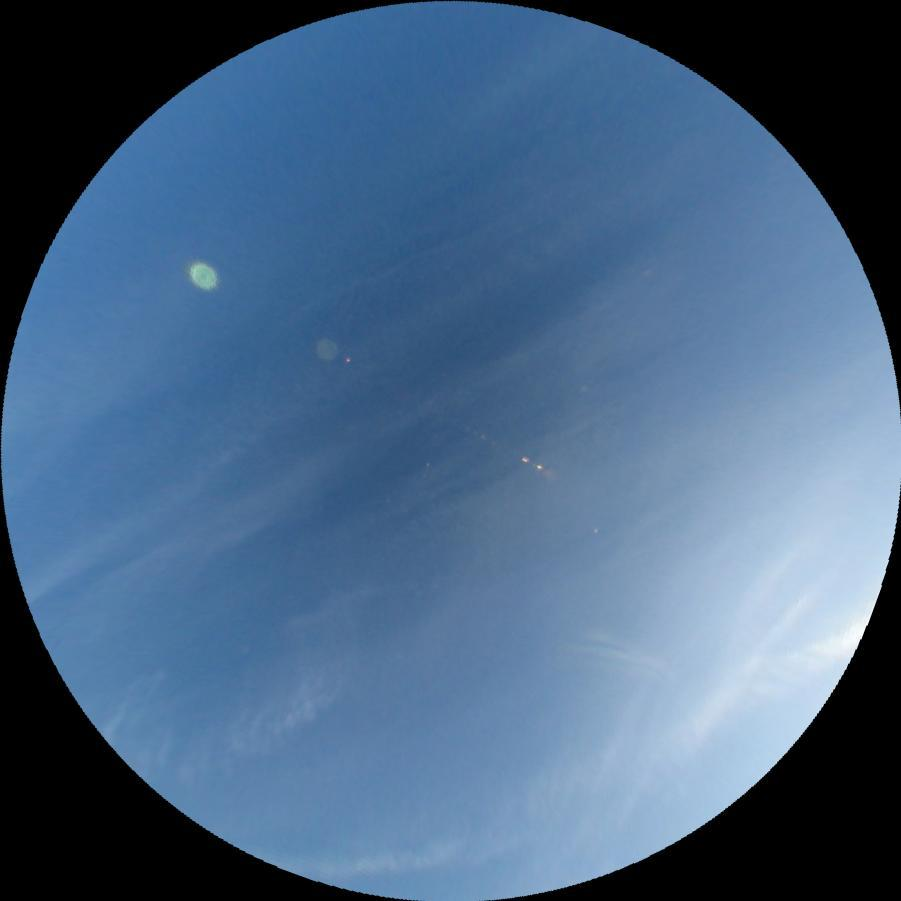contrail veryold: (105, 685, 336, 796), (257, 837, 471, 884)
